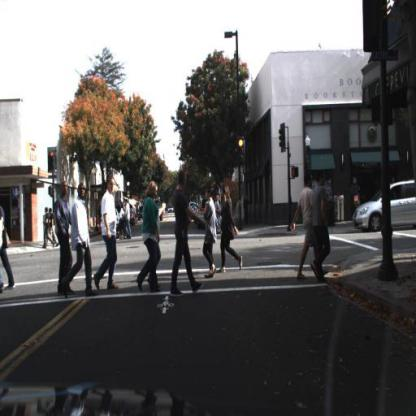car: (354, 178, 415, 234), (157, 200, 163, 220)
pedestrian: (92, 179, 122, 291), (311, 175, 335, 283), (292, 178, 314, 286), (217, 184, 243, 275), (140, 182, 160, 294), (292, 176, 313, 278), (102, 176, 119, 290), (72, 182, 88, 298), (175, 169, 189, 296), (202, 182, 219, 281), (221, 184, 239, 271), (1, 201, 17, 295), (59, 181, 72, 296), (118, 199, 133, 244), (44, 207, 52, 249), (50, 209, 58, 249), (119, 201, 127, 237), (242, 195, 251, 226), (125, 202, 132, 240), (217, 196, 221, 237)
trafficLight-Red: (47, 148, 57, 179), (237, 136, 245, 167)
